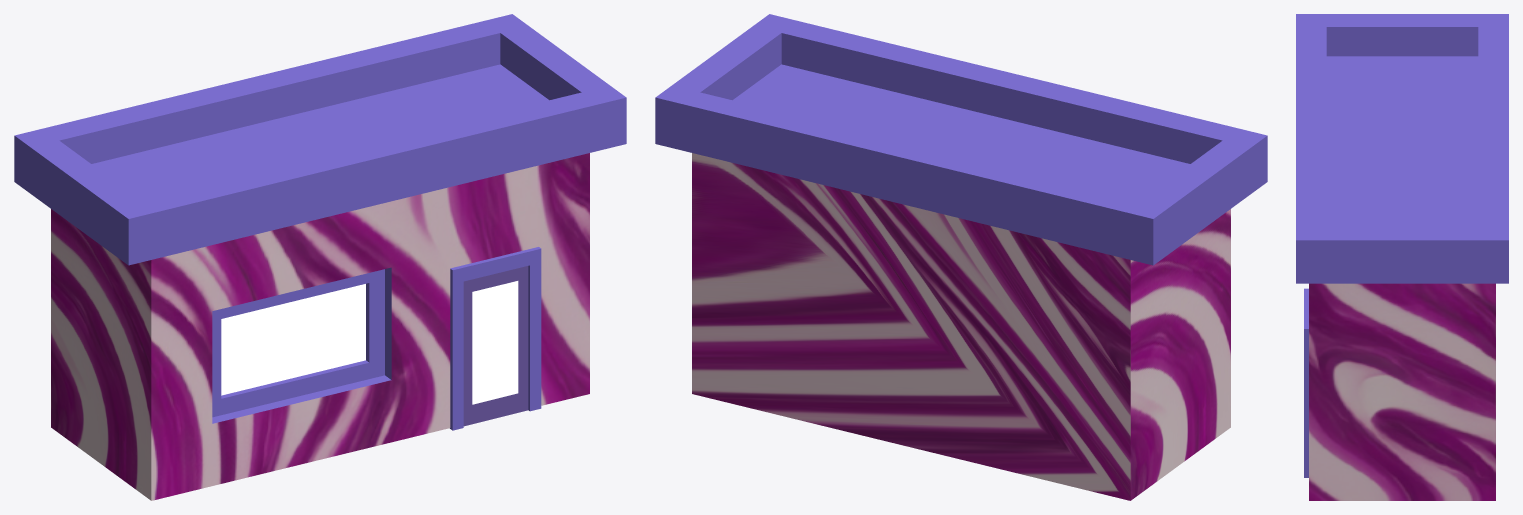
File: Small purple swirly house.fbx
The picture shows the model from 3 angles, left to right: view 1: azimuth 30°, elevation 25°; view 2: azimuth 150°, elevation 25°; view 3: azimuth 270°, elevation 25°; orthographic projection. The views are drawn at different scales.
Parts seen in each view (by area): view 1: Cube.060; view 2: Cube.060; view 3: Cube.060.
Part boxes in pixels (bbox=[...]): Cube.060: bbox=[14, 14, 626, 500]; Cube.060: bbox=[655, 14, 1267, 500]; Cube.060: bbox=[1296, 14, 1508, 500].
Bounding box in the file's own units: 1388 × 785 × 551.
Materials: 4 (1 with a texture image).
